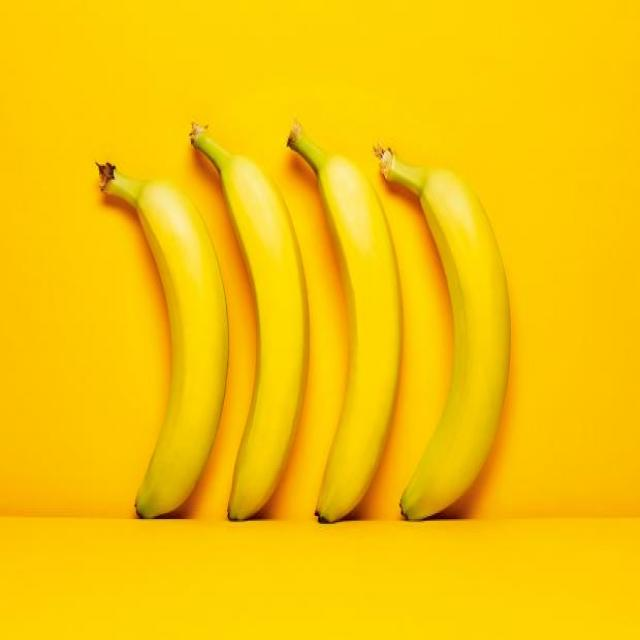banana: (91, 117, 508, 524)
